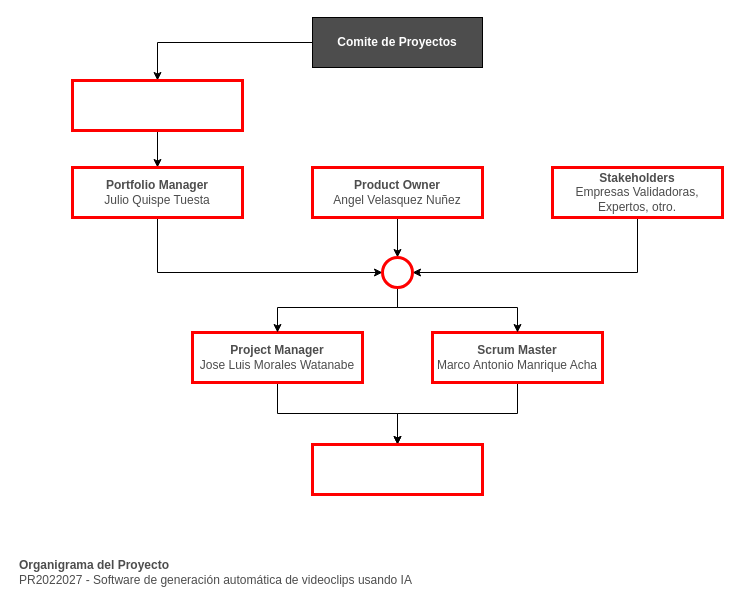
This 741x605 diagram has some shape labels left out. The shapes that lost their labels are listed below. From the top down, each one's box as (x1, y1, x2, y2) in pixels, then its label:
(70, 78, 244, 132): Director de la PMO: Alfredo Barrientos Padilla
(310, 442, 484, 496): Development Team Recursos de SWF/IT Services
